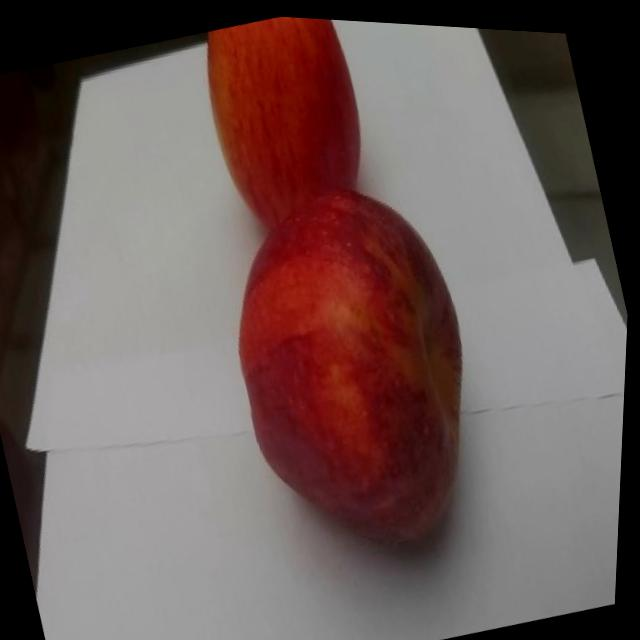Apple: (196, 156, 520, 574), (188, 9, 389, 238)
